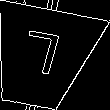L_S: (17, 30, 67, 85)
